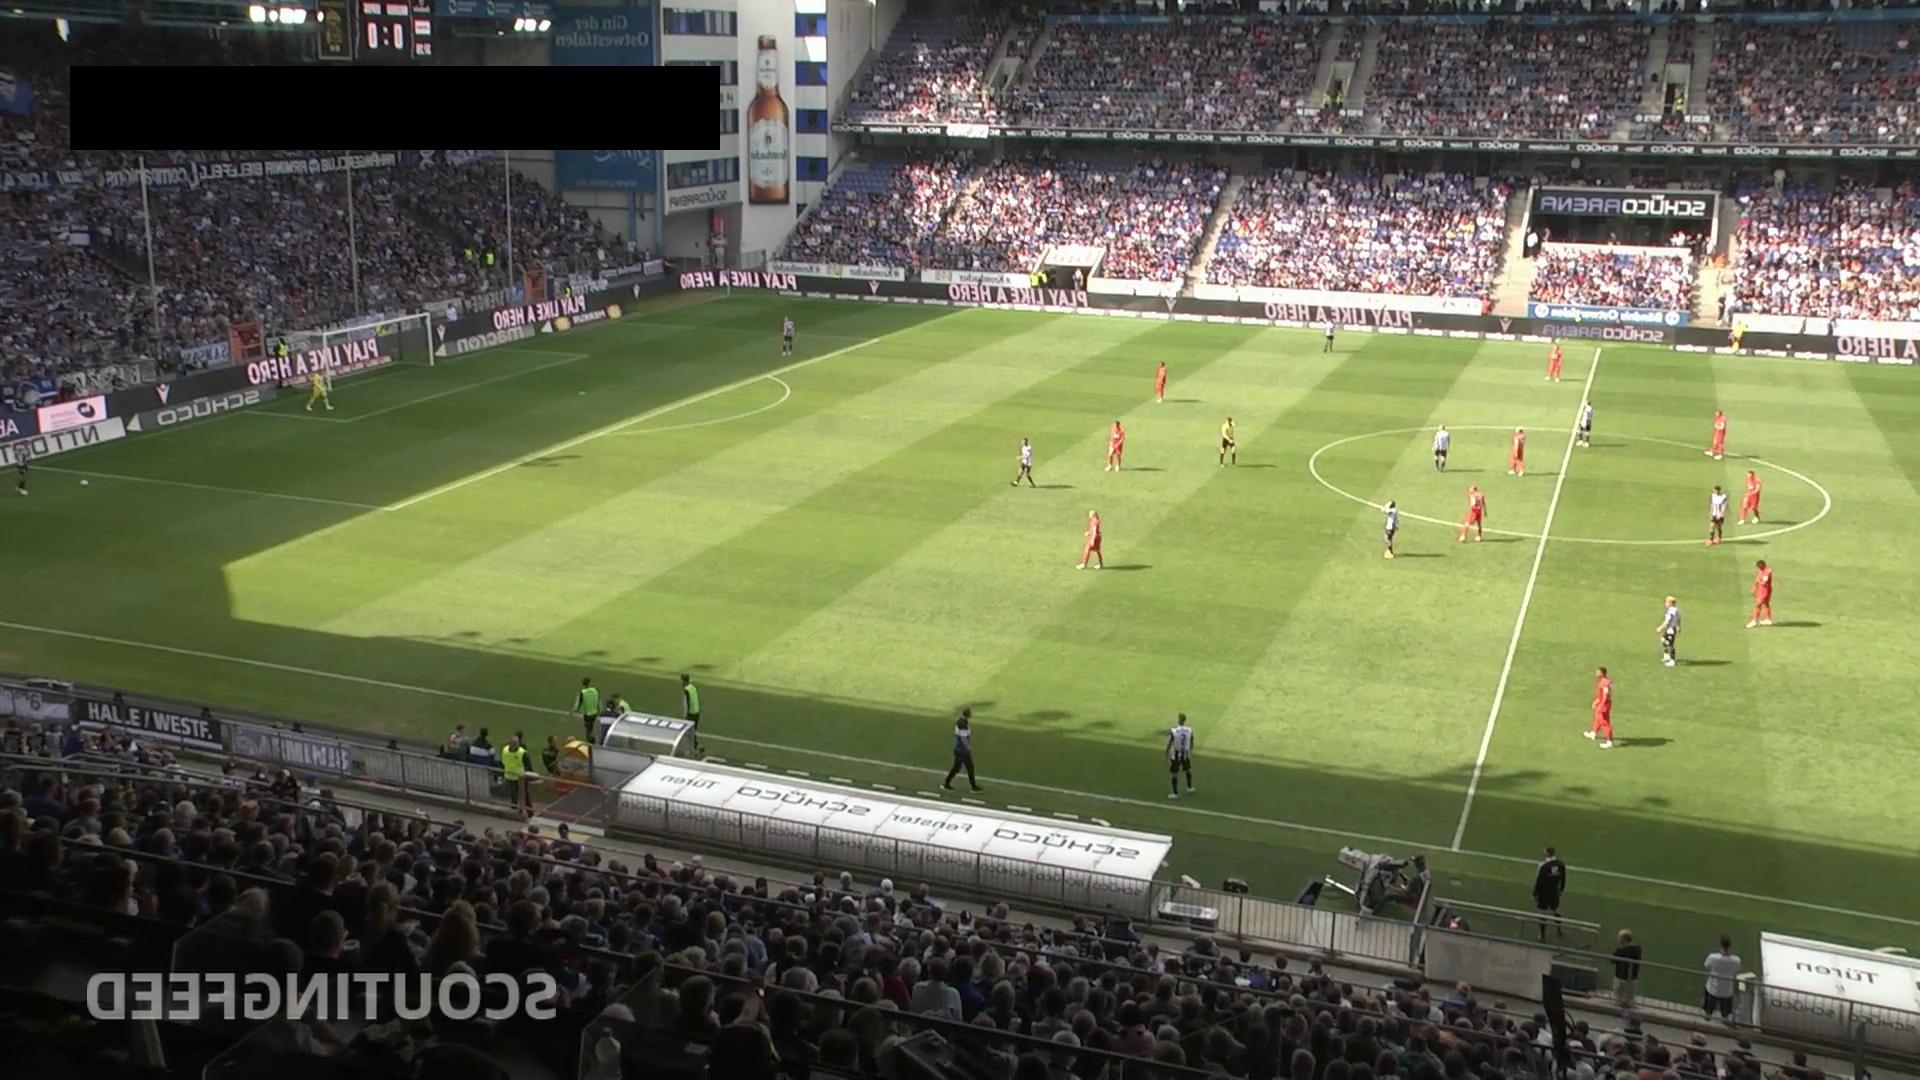ball: (79, 478, 90, 488)
goalkeeper: (304, 366, 334, 412)
player: (1164, 712, 1196, 798), (1585, 666, 1614, 748), (1746, 559, 1774, 628), (1655, 596, 1682, 666), (1455, 484, 1486, 543), (1076, 509, 1104, 570), (1702, 407, 1730, 464), (9, 439, 35, 498), (1705, 484, 1729, 546), (1738, 469, 1763, 525), (1012, 437, 1037, 487), (1539, 339, 1566, 385), (1381, 499, 1399, 558), (1105, 419, 1125, 472), (1508, 427, 1526, 477), (1575, 399, 1593, 448), (1432, 423, 1450, 472), (781, 315, 795, 355), (1154, 360, 1167, 403), (1321, 318, 1335, 353)
referee: (1218, 415, 1238, 467), (1726, 315, 1748, 357)
